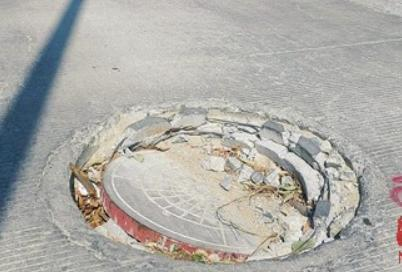wellcover: (72, 106, 357, 261)
